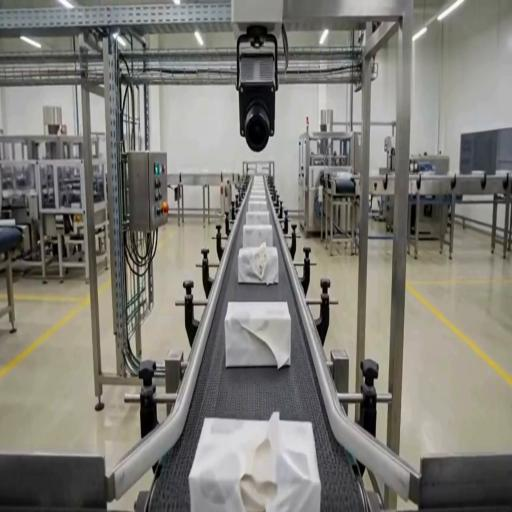defective: (190, 411, 319, 511), (224, 301, 292, 368), (237, 244, 279, 285)
good: (242, 224, 274, 249), (244, 210, 271, 226)
